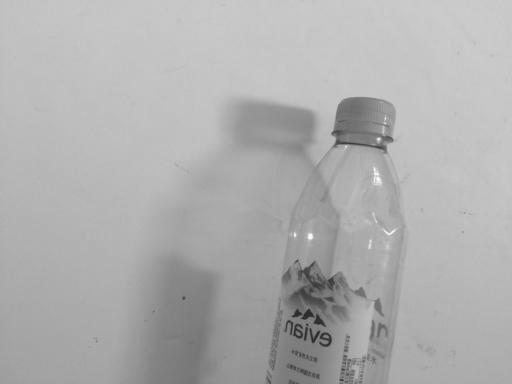bottle: (256, 89, 416, 384)
